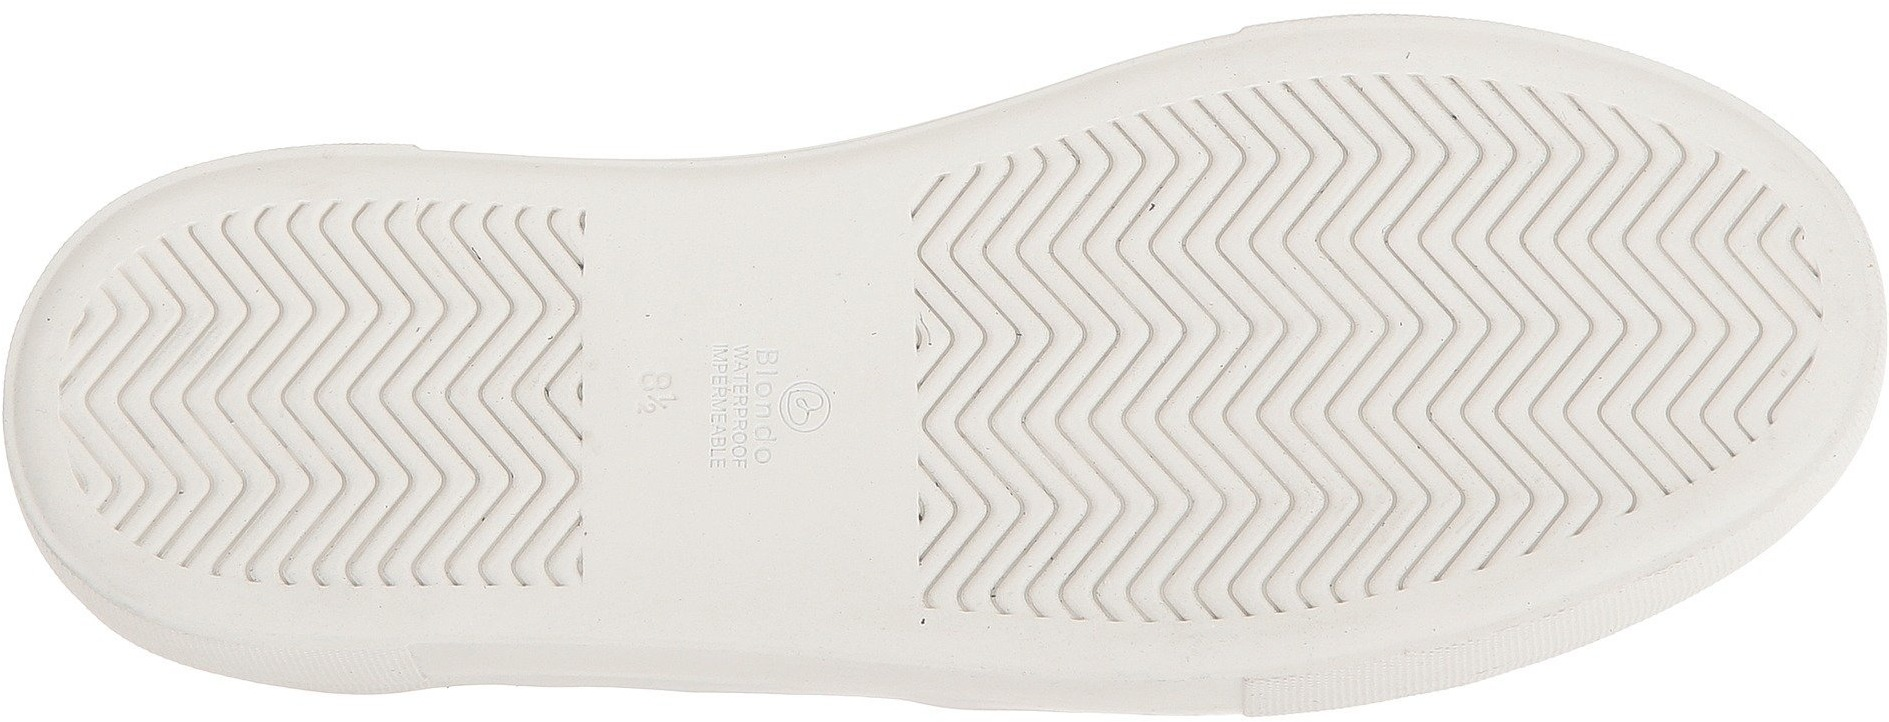chevron: (276, 256, 579, 585), (1208, 110, 1528, 415), (908, 184, 1197, 436), (1531, 157, 1781, 415), (76, 313, 272, 507), (959, 444, 1172, 606), (1211, 425, 1397, 586), (1405, 429, 1547, 576)
circle: (639, 319, 836, 492), (777, 374, 846, 439)
other: (692, 507, 866, 655), (671, 174, 818, 306)
text: (639, 319, 836, 492)
